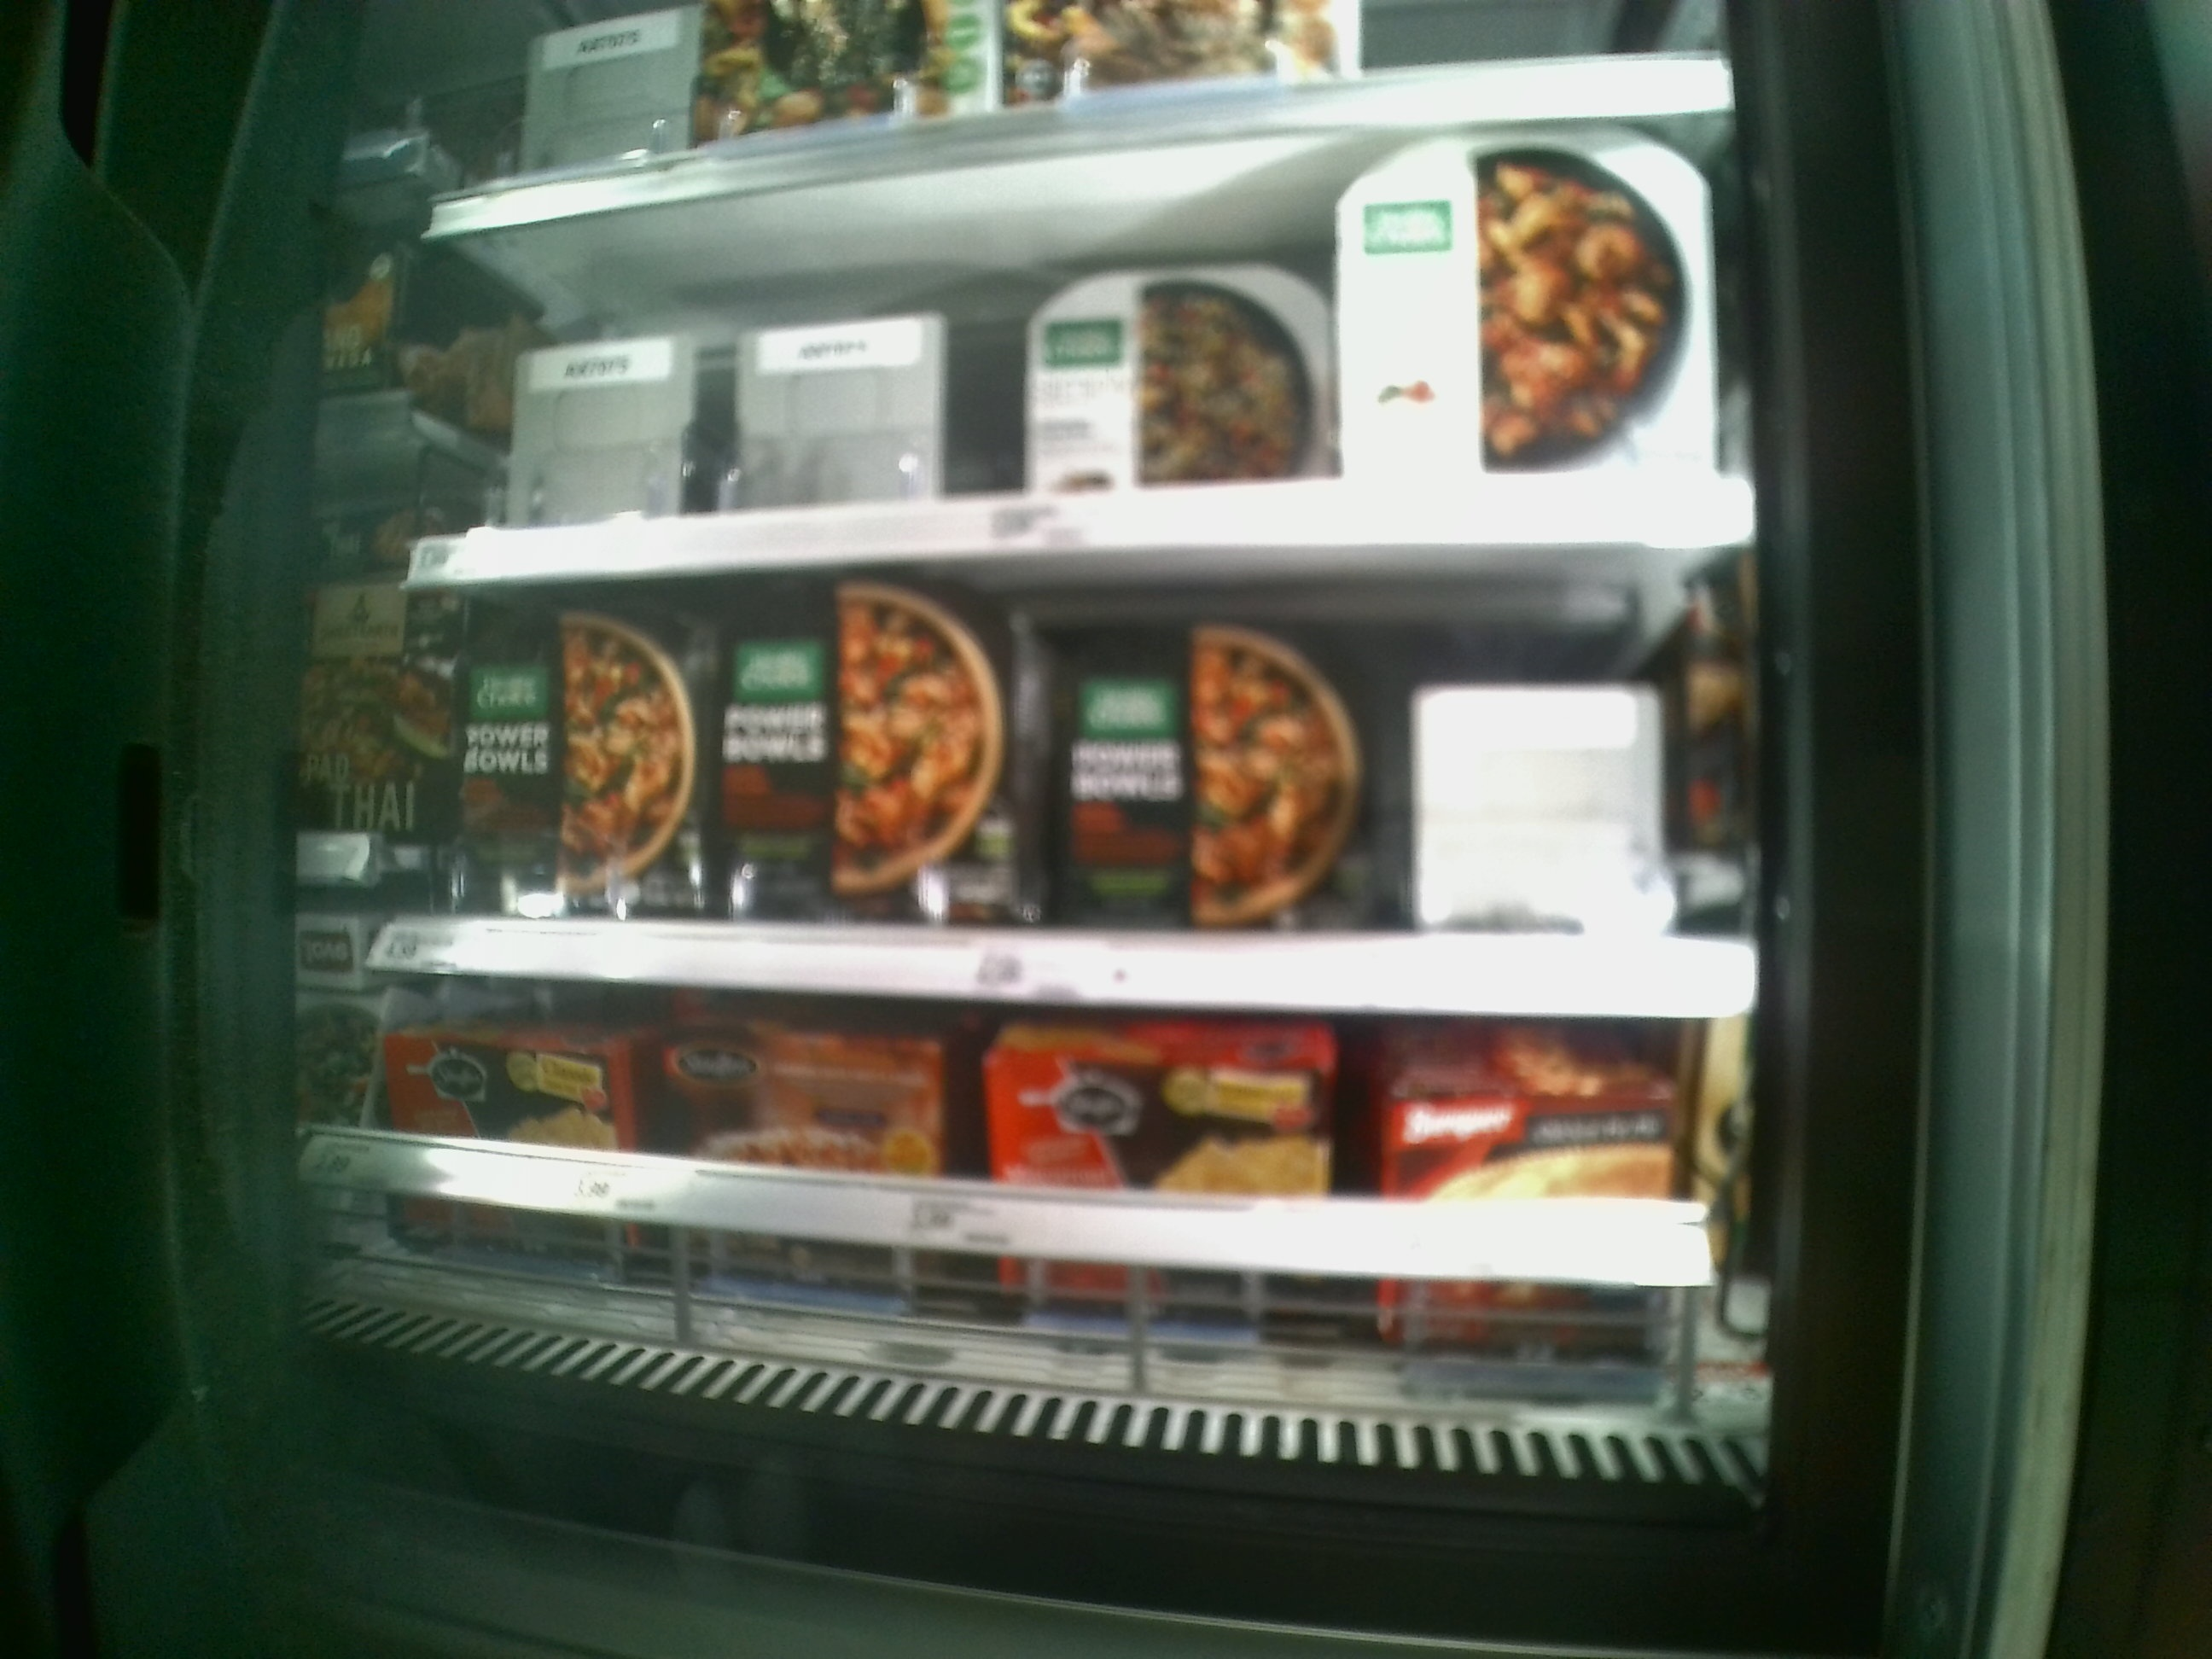shelf: (355, 964, 1737, 1464), (411, 547, 1757, 1025), (416, 122, 1743, 580)
